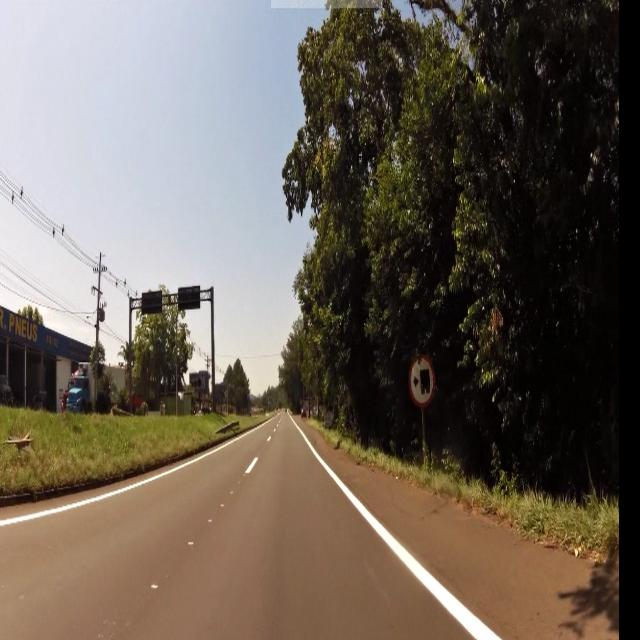R-27: (409, 348, 437, 410)
